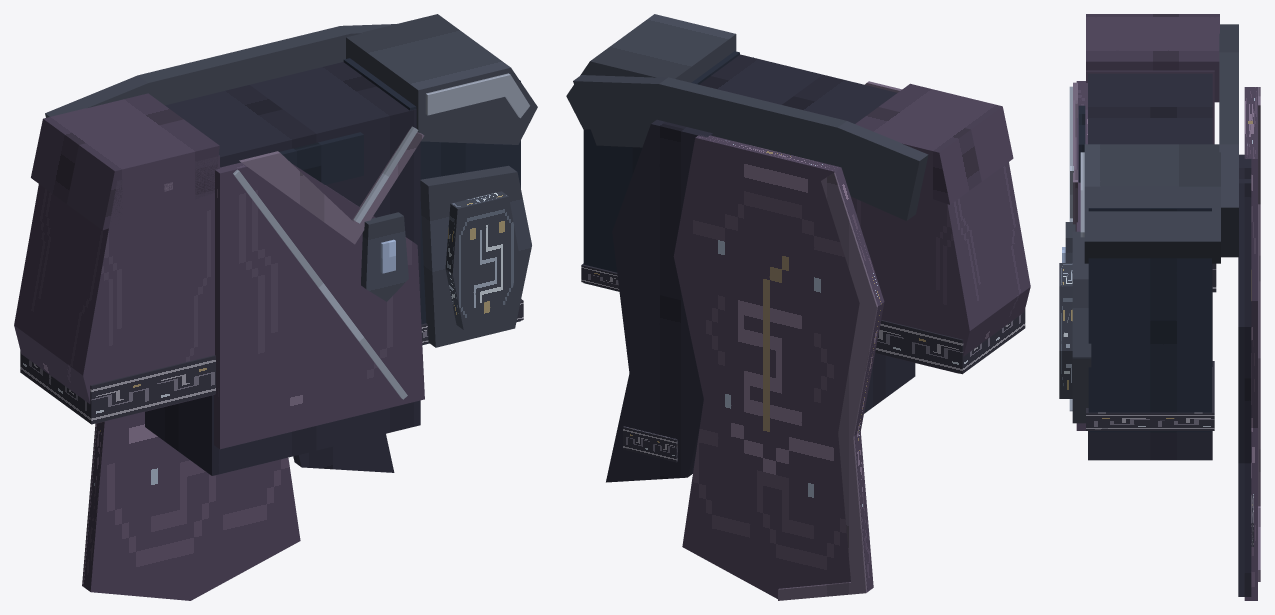
File: jindan_zixiao_chestplate.obj
3 renders of one model, left to right at view 1: azimuth 30°, elevation 25°; view 2: azimuth 150°, elevation 25°; view 3: azimuth 270°, elevation 25°, orthographic. The views are drawn at different scales.
Visible parts, largest first — view 1: zx_front_wrap, zx_wide_sleeve, zx_cape_long, zx_body, zx_left_shoulder, zx_right_shoulder, zx_back_shawl, zx_gauntlet, zx_gauntlet_ridge, zx_left_cuff, zx_inner_collar, zx_right_sleeve (+6 smaller); view 2: zx_cape_long, zx_cape_short, zx_wide_sleeve, zx_back_shawl, zx_left_shoulder, zx_cape_fold, zx_body, zx_right_shoulder, zx_right_sleeve, zx_left_cuff, zx_cape_short_border, zx_right_cuff; view 3: zx_right_sleeve, zx_right_shoulder, zx_body, zx_left_shoulder, zx_cape_short, zx_back_shawl, zx_cape_long, zx_gauntlet, zx_right_cuff, zx_gauntlet_ridge, zx_cape_fold, zx_front_wrap (+6 smaller).
Part boxes in pixels (x1,y1,x2,y2): zx_front_wrap: [214, 162, 424, 449]; zx_wide_sleeve: [14, 155, 219, 423]; zx_cape_long: [83, 412, 300, 600]; zx_body: [145, 62, 420, 475]; zx_left_shoulder: [31, 93, 219, 230]; zx_right_shoulder: [346, 14, 537, 144]; zx_back_shawl: [45, 24, 395, 117]; zx_gauntlet: [420, 165, 531, 347]; zx_gauntlet_ridge: [445, 191, 519, 329]; zx_left_cuff: [20, 351, 215, 424]; zx_inner_collar: [239, 129, 424, 244]; zx_right_sleeve: [343, 58, 520, 345]; zx_cape_long: [673, 135, 884, 598]; zx_cape_short: [606, 119, 712, 482]; zx_wide_sleeve: [851, 162, 1030, 373]; zx_back_shawl: [573, 75, 928, 220]; zx_left_shoulder: [855, 83, 1013, 204]; zx_cape_fold: [778, 172, 877, 600]; zx_body: [699, 54, 915, 413]; zx_right_shoulder: [566, 14, 736, 129]; zx_right_sleeve: [583, 51, 739, 291]; zx_left_cuff: [875, 309, 1025, 374]; zx_cape_short_border: [623, 426, 677, 462]; zx_right_cuff: [581, 263, 619, 291]; zx_right_sleeve: [1088, 208, 1211, 432]; zx_right_shoulder: [1084, 144, 1220, 263]; zx_body: [1088, 73, 1212, 460]; zx_left_shoulder: [1086, 14, 1219, 102]; zx_cape_short: [1238, 154, 1251, 596]; zx_back_shawl: [1219, 24, 1238, 257]; zx_cape_long: [1244, 87, 1257, 600]; zx_gauntlet: [1072, 231, 1091, 423]; zx_right_cuff: [1086, 361, 1214, 430]; zx_gauntlet_ridge: [1059, 263, 1072, 398]; zx_cape_fold: [1258, 87, 1260, 581]; zx_front_wrap: [1076, 81, 1087, 430].
Bounding box in the file's own units: 1.16 × 1.33 × 0.48.
